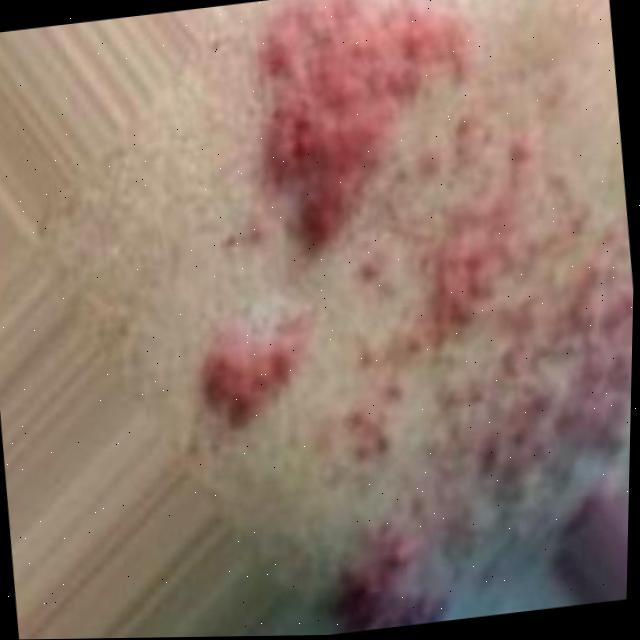Shingles: (322, 165, 636, 630), (240, 0, 463, 168), (202, 335, 299, 425)
